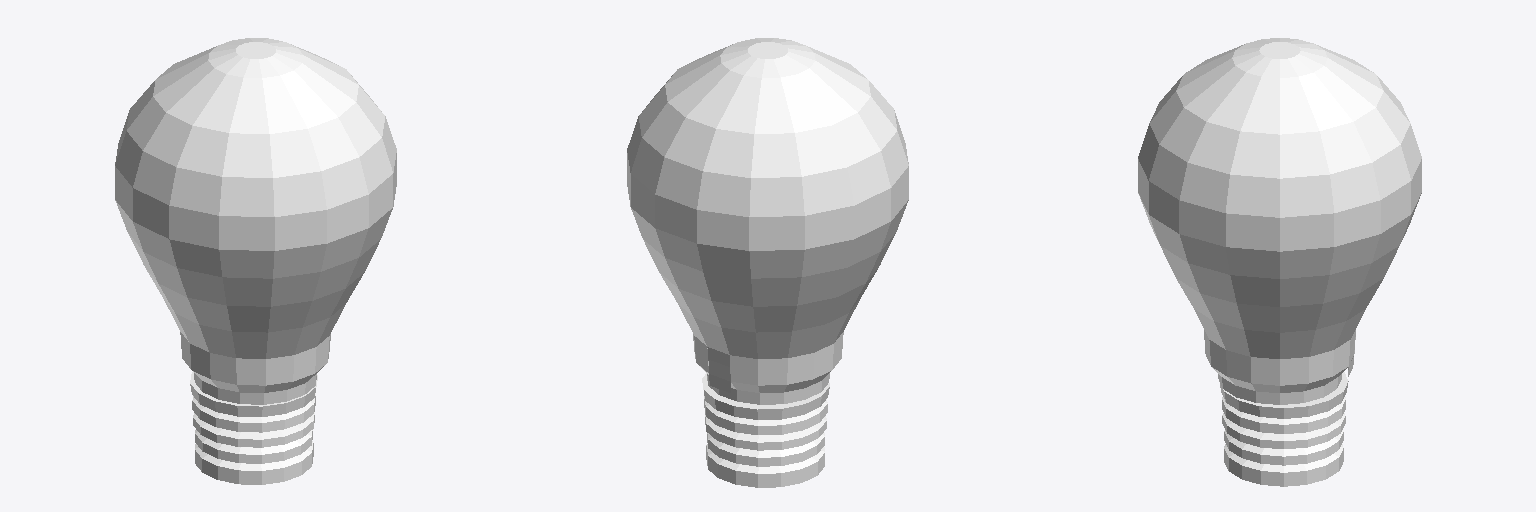
File: lightbulb.obj
3 renders of one model, left to right at view 1: azimuth 30°, elevation 25°; view 2: azimuth 150°, elevation 25°; view 3: azimuth 270°, elevation 25°, orthographic.
Visible parts, largest first — view 1: lightbulb; view 2: lightbulb; view 3: lightbulb.
Boxes of the visible parts, x1,y1,x2,y2 form: lightbulb: [115, 38, 396, 484]; lightbulb: [627, 38, 908, 487]; lightbulb: [1138, 38, 1421, 486].
Bounding box in the file's own units: 1.5 × 2.4 × 1.5.